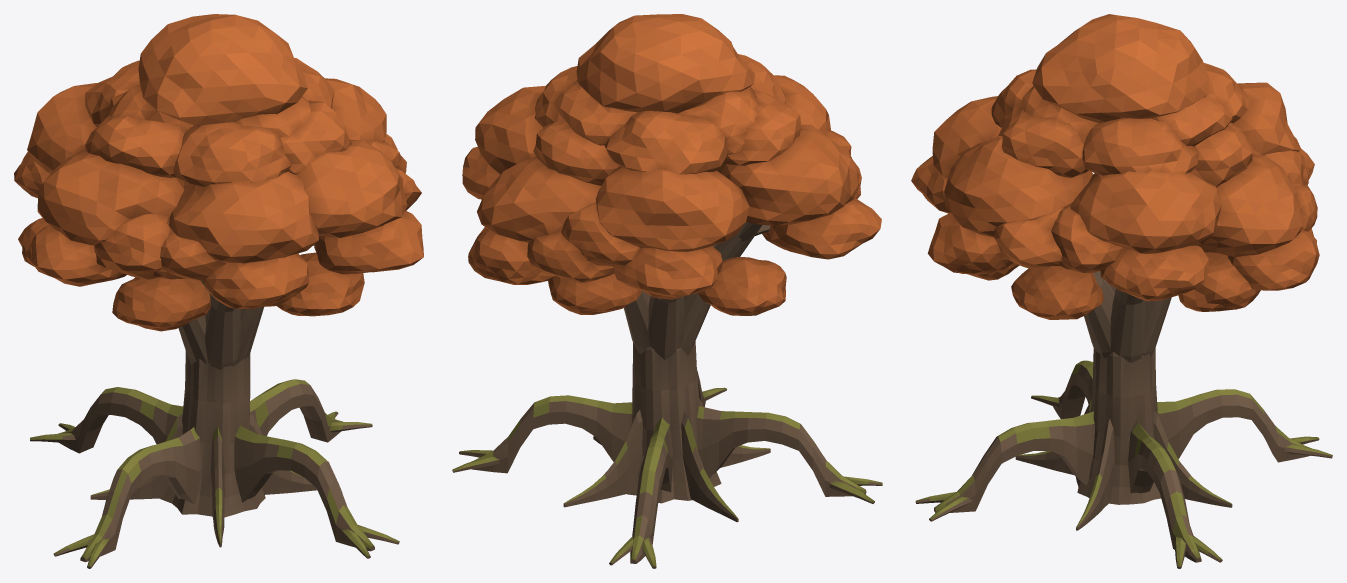
File: tree_ancient.glb
The picture shows the model from 3 angles, left to right: view 1: azimuth 30°, elevation 25°; view 2: azimuth 150°, elevation 25°; view 3: azimuth 270°, elevation 25°; orthographic projection. The views are drawn at different scales.
Bounding box in the file's own units: 35.28 × 40.78 × 33.89.
